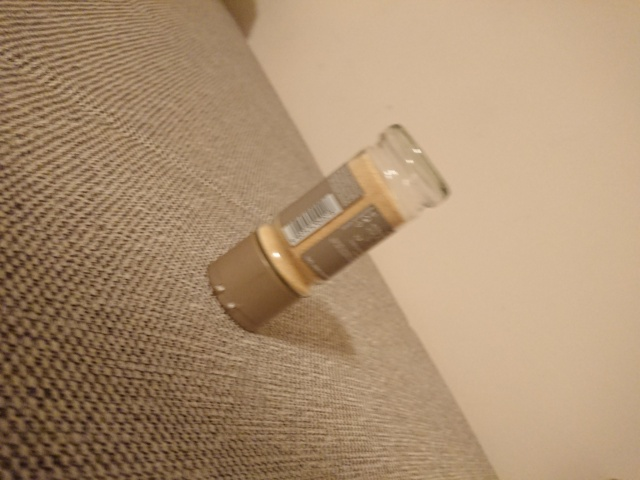Kotanyi Garlic Granules 70g: (205, 121, 453, 336)
